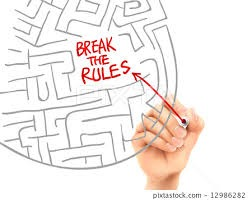maze: (4, 1, 134, 158), (135, 2, 176, 92)
